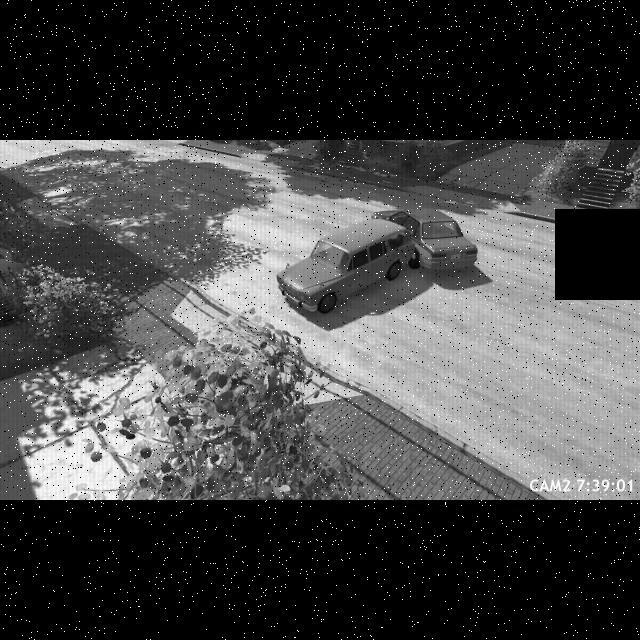moderate: (274, 204, 480, 314)
